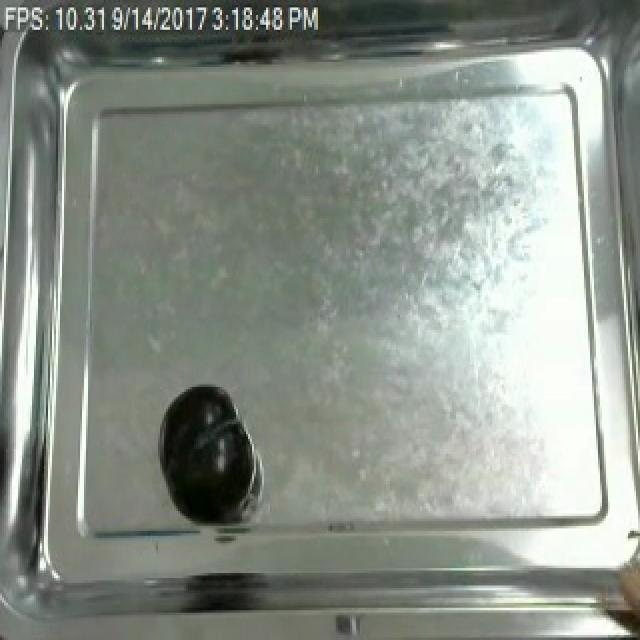Fruit: (158, 379, 254, 521)
